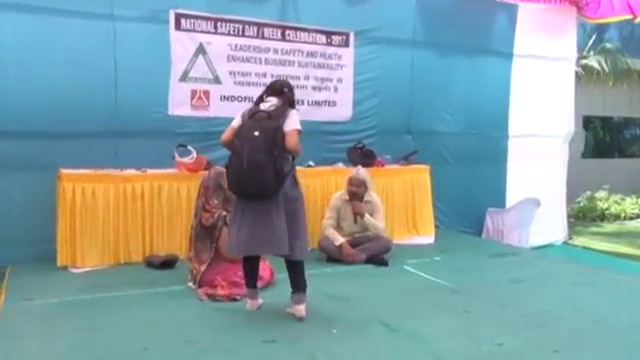helmet_off: (202, 166, 229, 203), (263, 81, 296, 105), (346, 167, 368, 201)
person: (220, 79, 311, 318), (182, 165, 277, 302), (316, 164, 393, 268)
